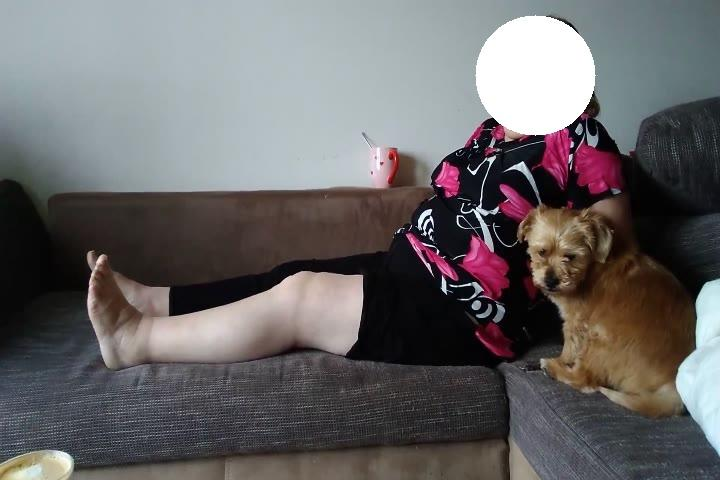lower_body: (76, 238, 514, 377)
